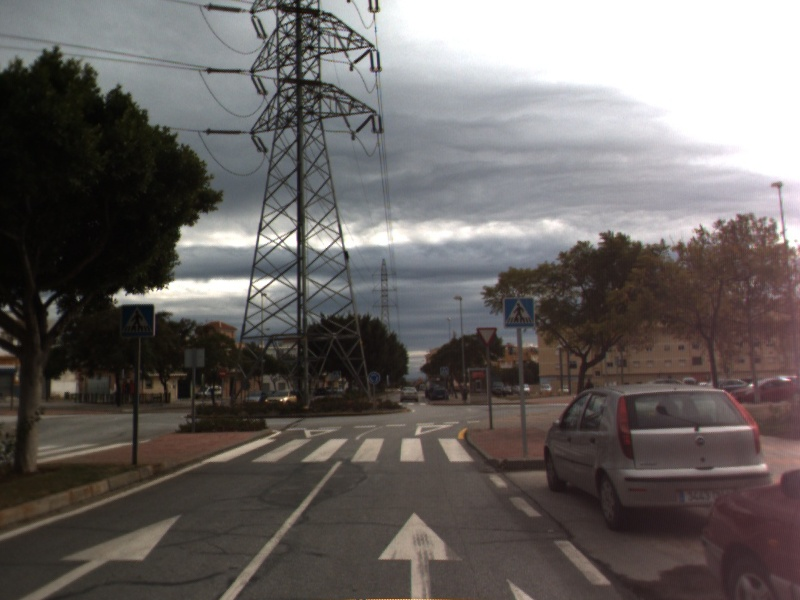STRAIGHT: (12, 509, 185, 600), (374, 508, 467, 600)
